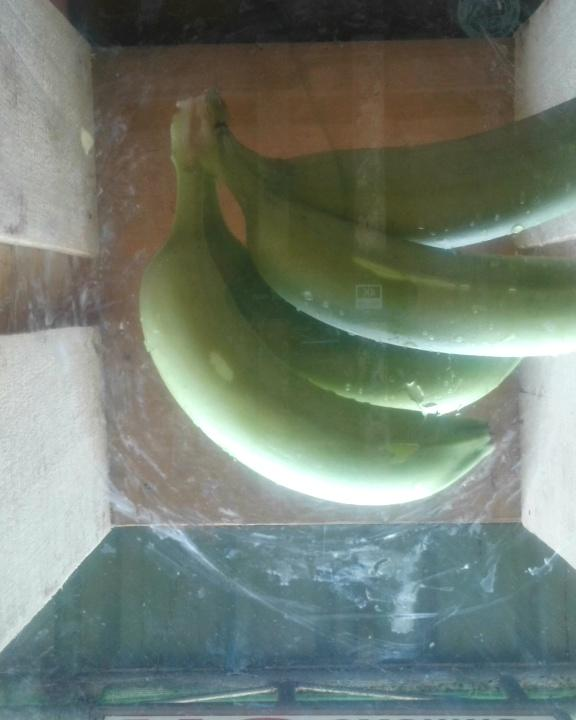SPOT: (133, 89, 576, 514)
